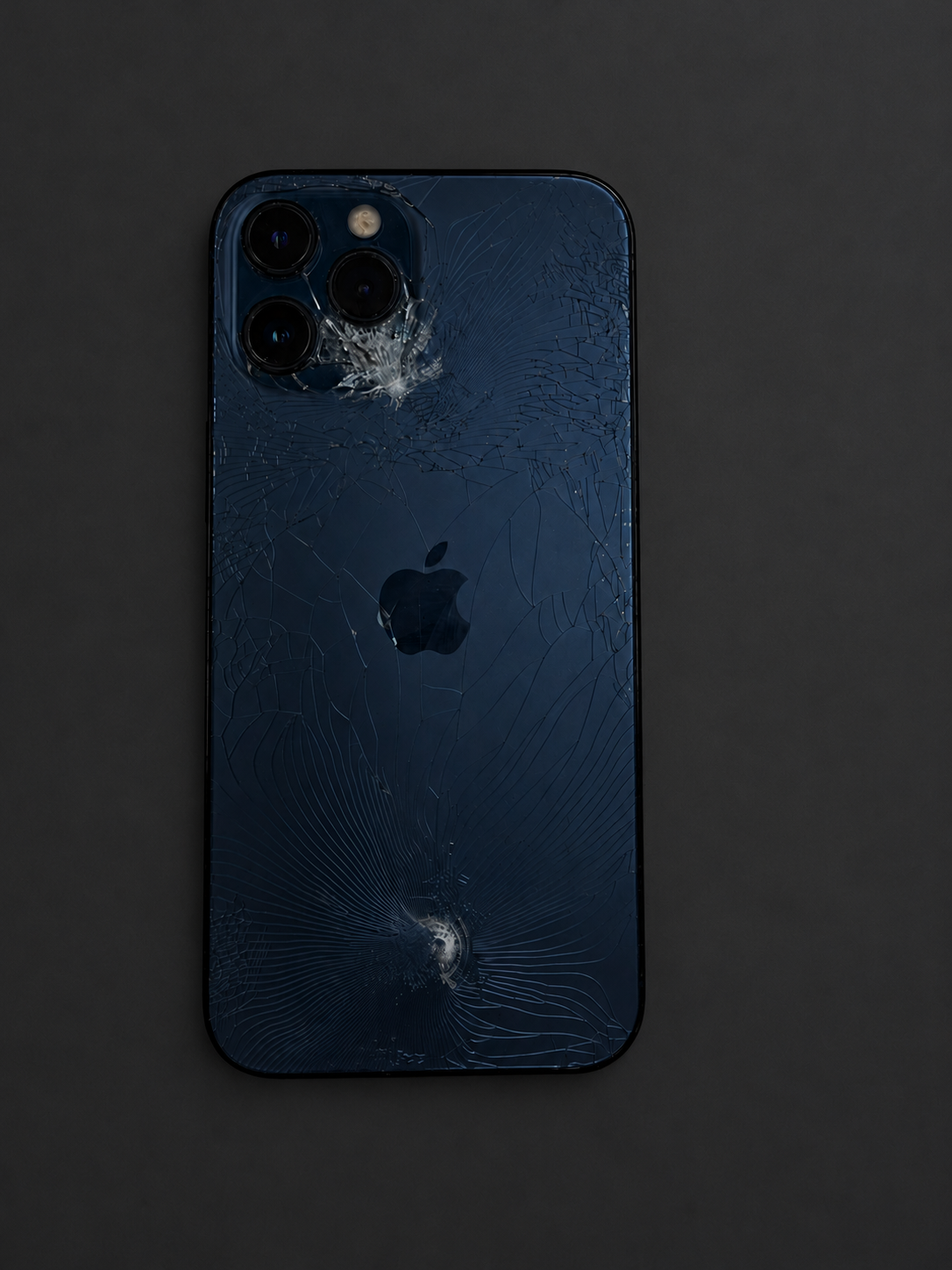iphone_12_pro_max_Crack: (121, 121, 708, 1137)
